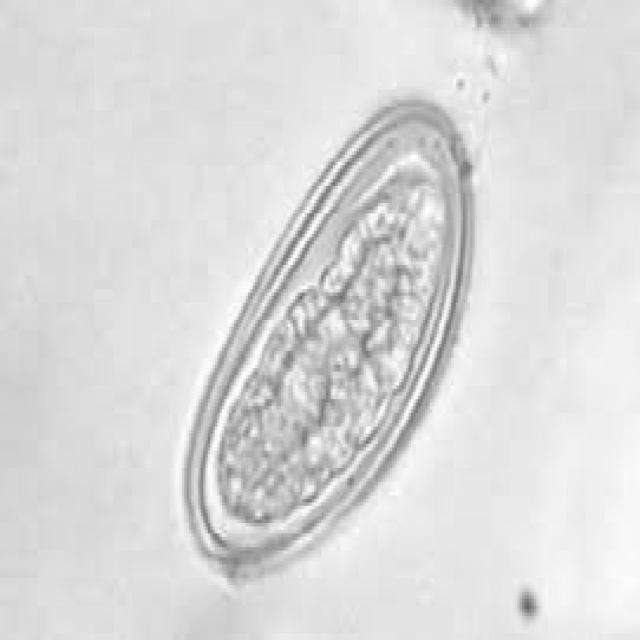Enterobius Vermicularis: (170, 90, 472, 578)
